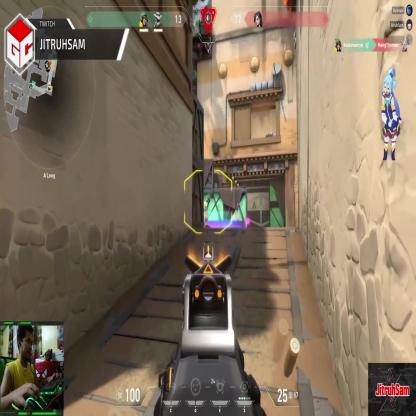enemy: (201, 199, 208, 232)
enemy_head: (202, 199, 206, 208)
